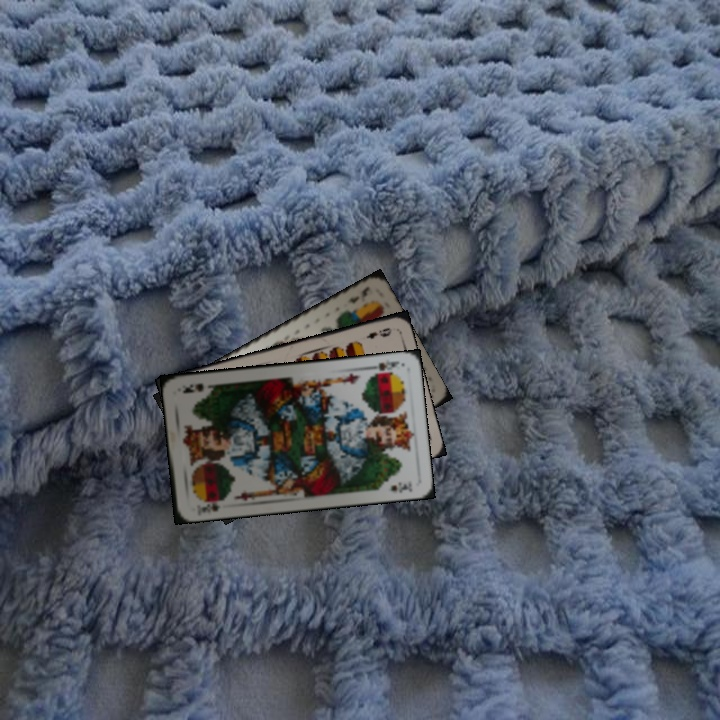E9: (362, 324, 395, 342)
EK: (343, 282, 372, 306)
SK: (364, 356, 402, 377), (197, 496, 223, 514)
